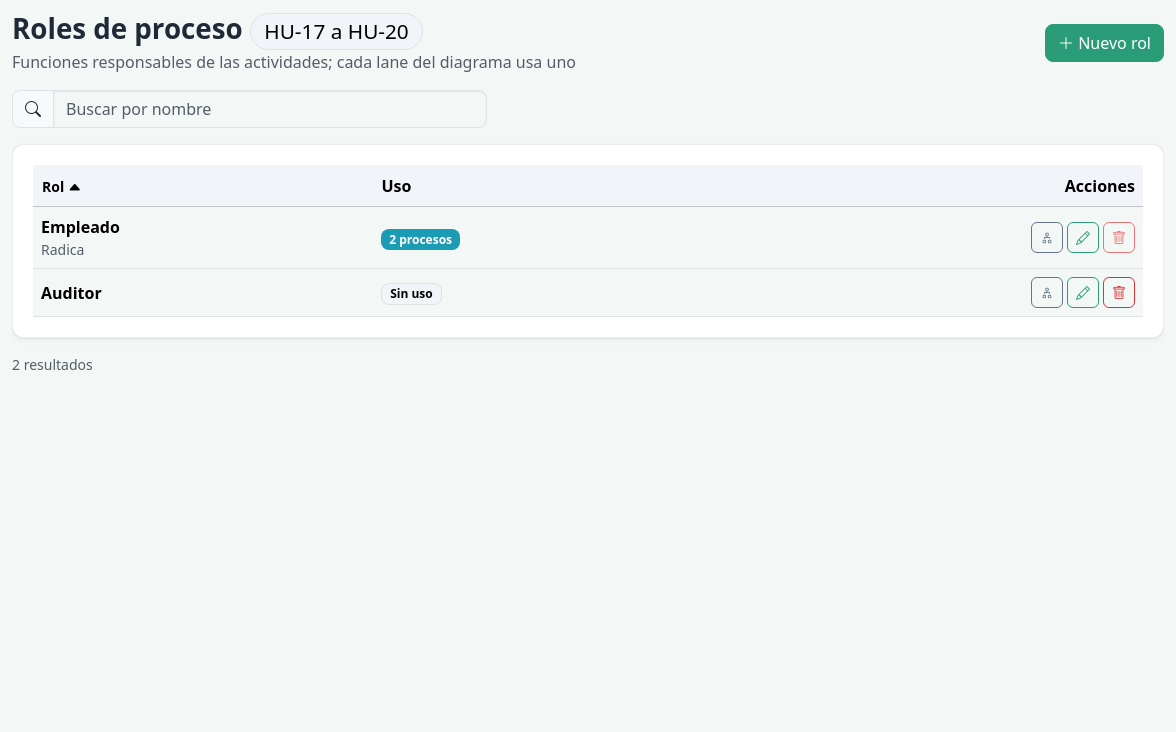
RolesProcesoComponent (HU-17 a HU-20) › nombre repetido: el formulario sigue abierto con el motivo
Step 1. Click the button with id "nuevoRolBtn" → (1104, 43), box x1=1045 y1=24 x2=1164 y2=62
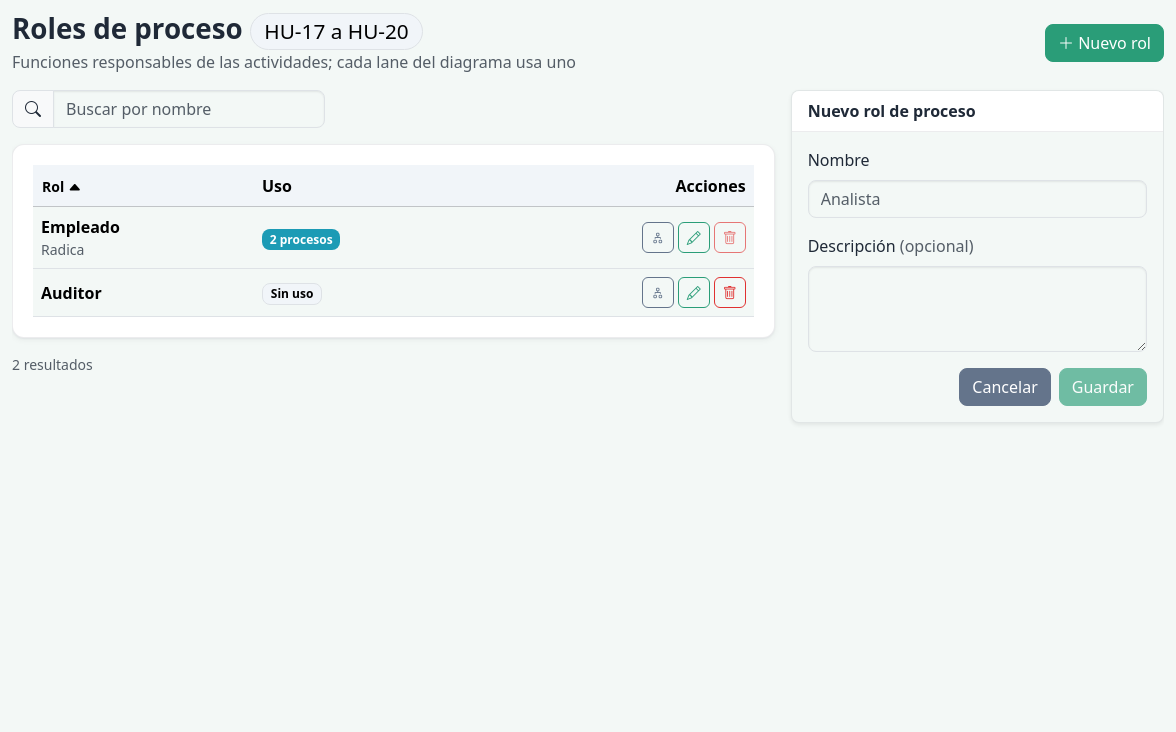
Step 2. Type "empleado" into the field with id "rolNombre" → (977, 199), box x1=808 y1=180 x2=1147 y2=218
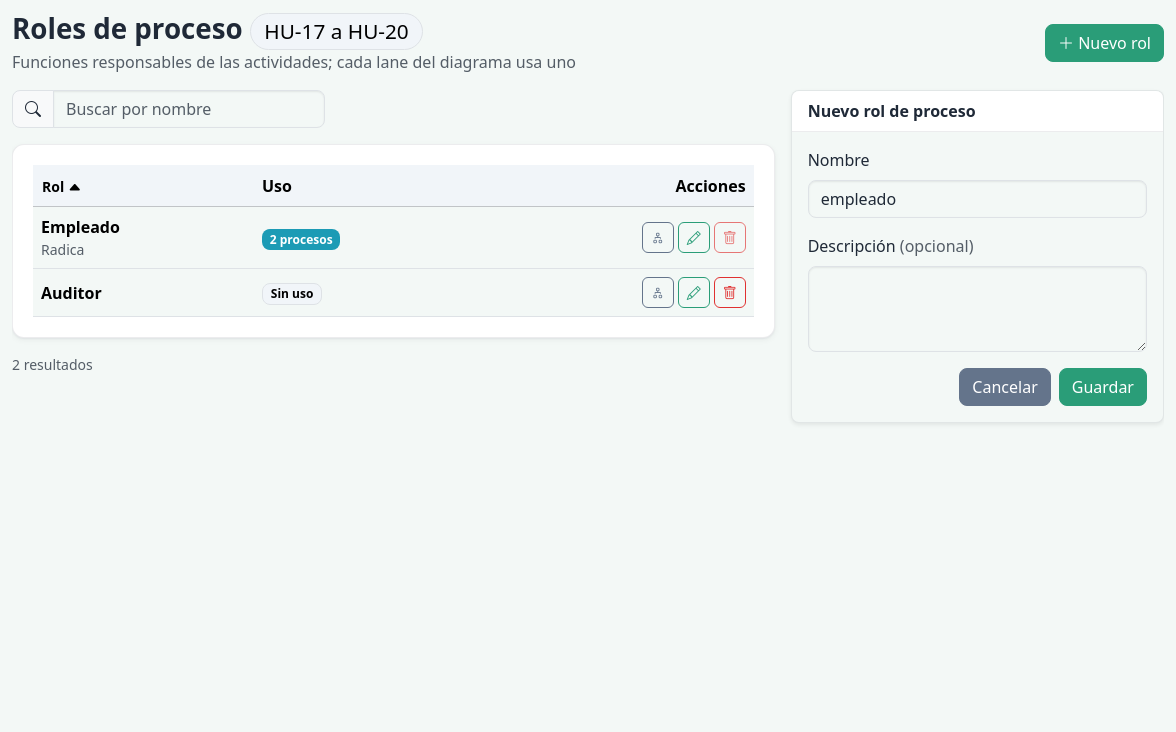
Step 3. Click the button with id "guardarRolBtn" → (1103, 387), box x1=1059 y1=368 x2=1147 y2=406
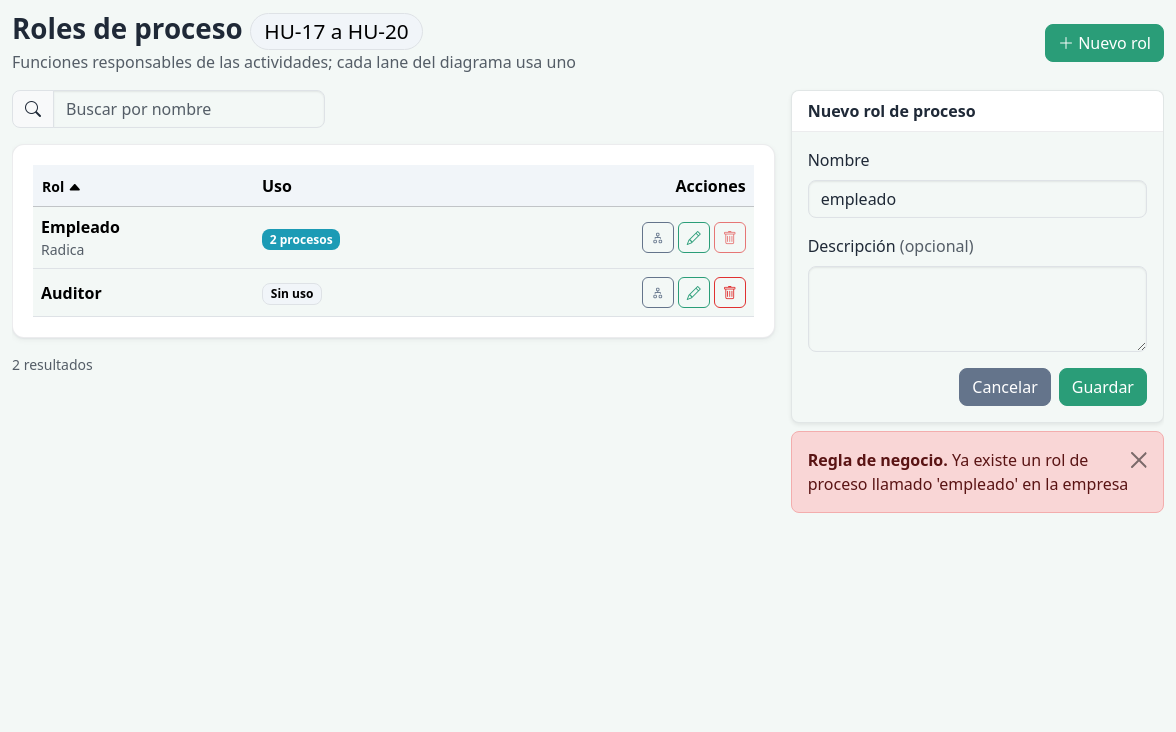
Expected: the text "Ya existe un rol de proceso" is shown, x1=808 y1=449 x2=1128 y2=495
